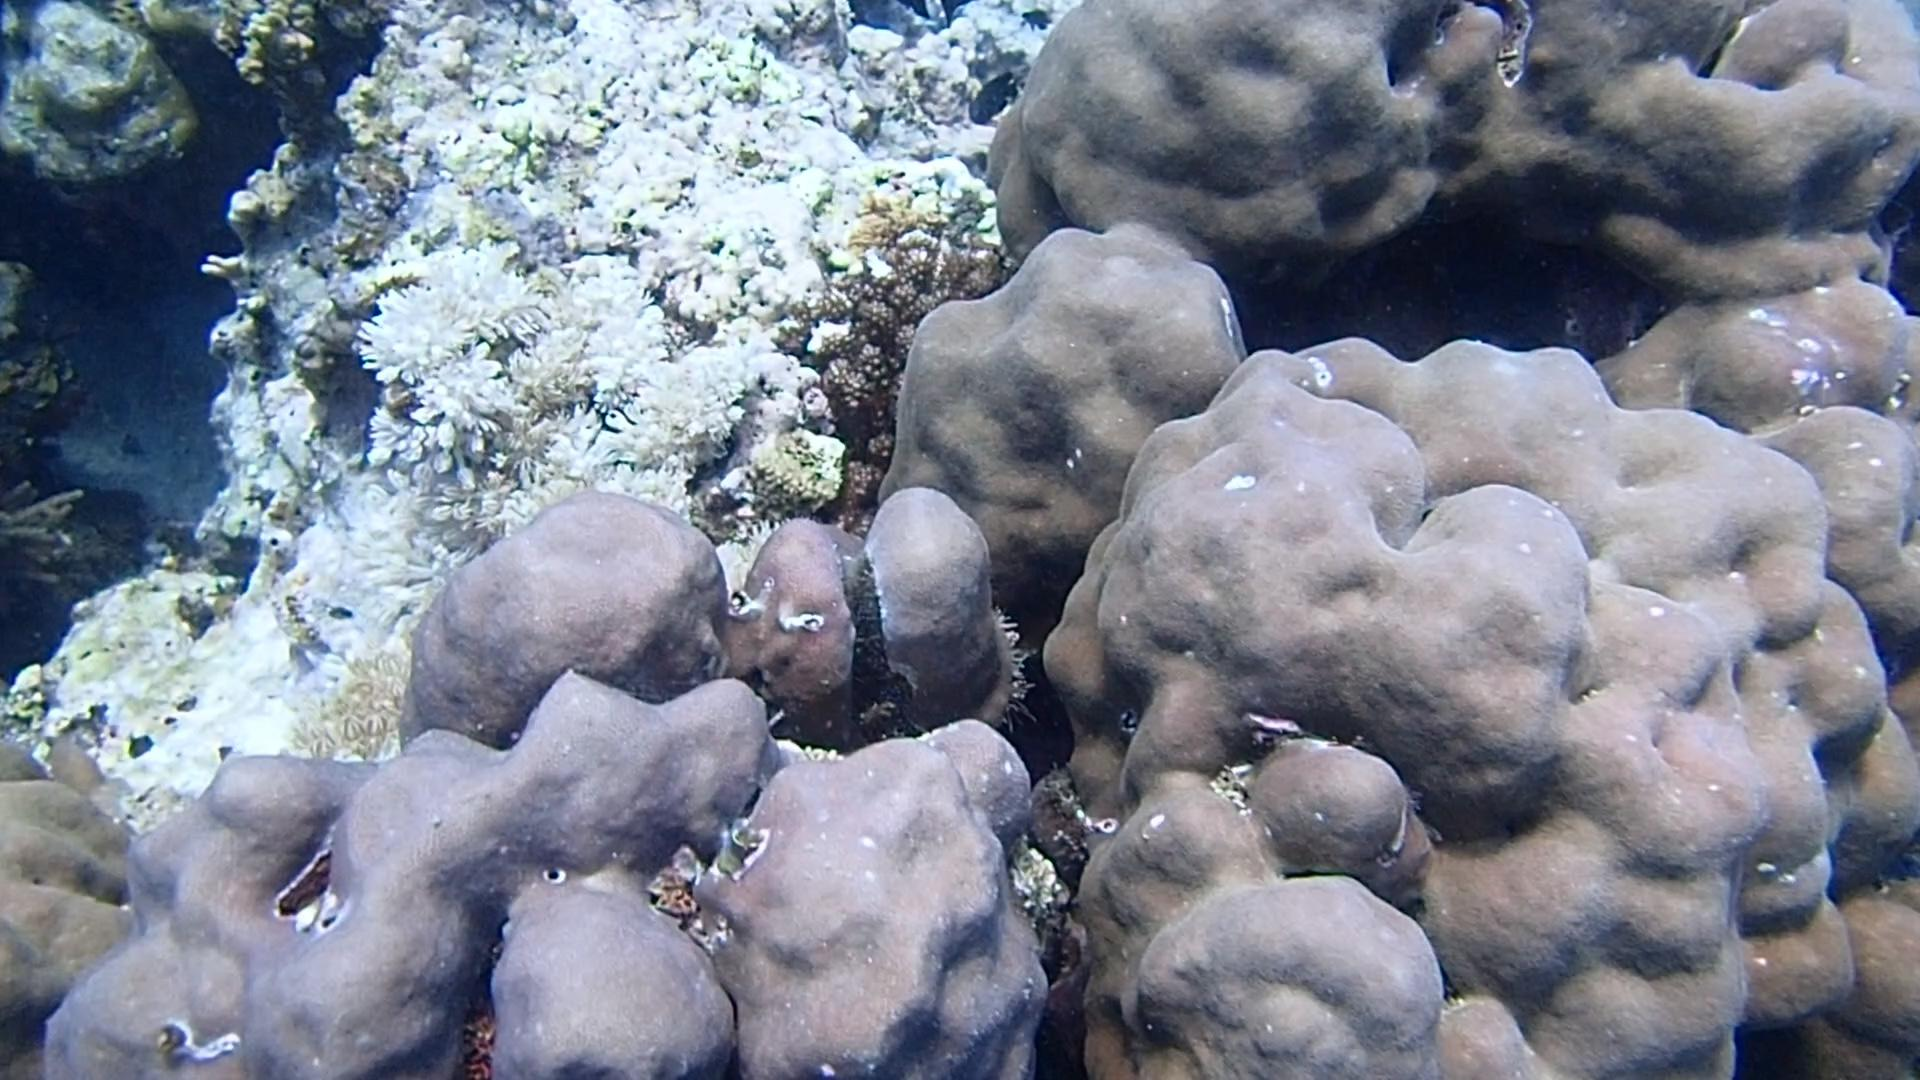Dark Fish: (957, 66, 1031, 129), (1021, 4, 1056, 36)
